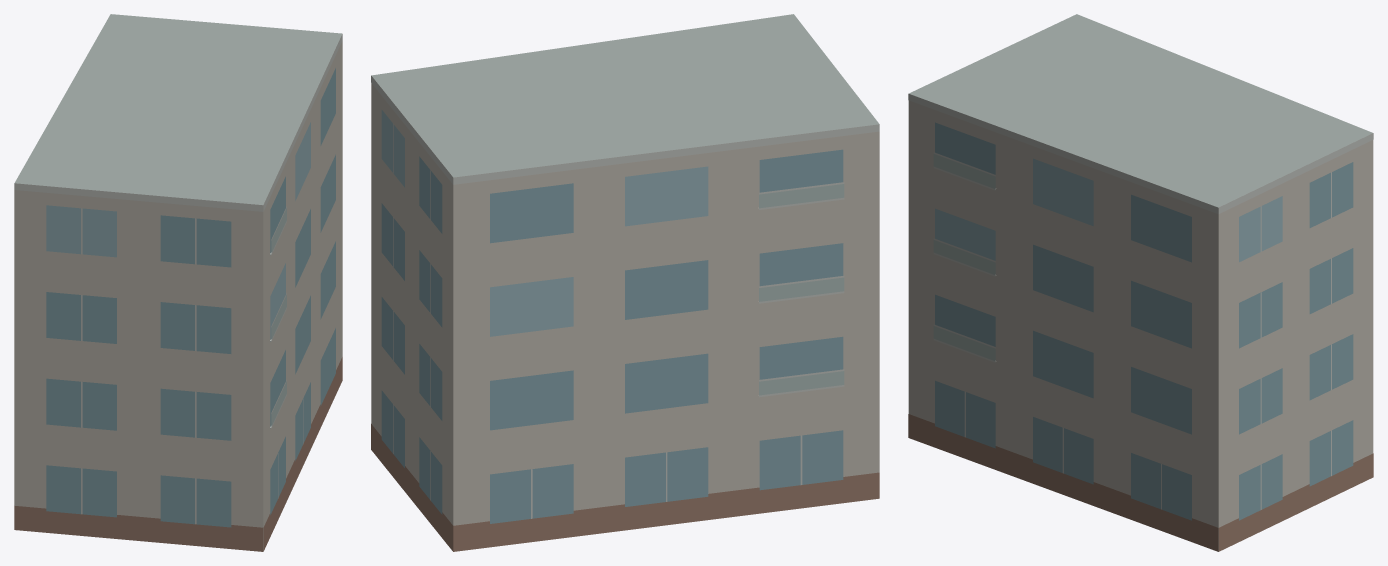
The model's file is survey-upis-32533836.glb.
3 views of the same model, side by side, from view 1: azimuth 30°, elevation 25°; view 2: azimuth 150°, elevation 25°; view 3: azimuth 270°, elevation 25° (orthographic). The views are drawn at different scales.
Parts seen in each view (by area): view 1: survey-upis-32533836.tmp; view 2: survey-upis-32533836.tmp; view 3: survey-upis-32533836.tmp.
Boxes of the visible parts, x1=… form: survey-upis-32533836.tmp: x1=14, y1=14, x2=342, y2=551; survey-upis-32533836.tmp: x1=371, y1=14, x2=879, y2=551; survey-upis-32533836.tmp: x1=908, y1=14, x2=1373, y2=551.
Bounding box in the file's own units: 15.21 × 12.6 × 15.43.
